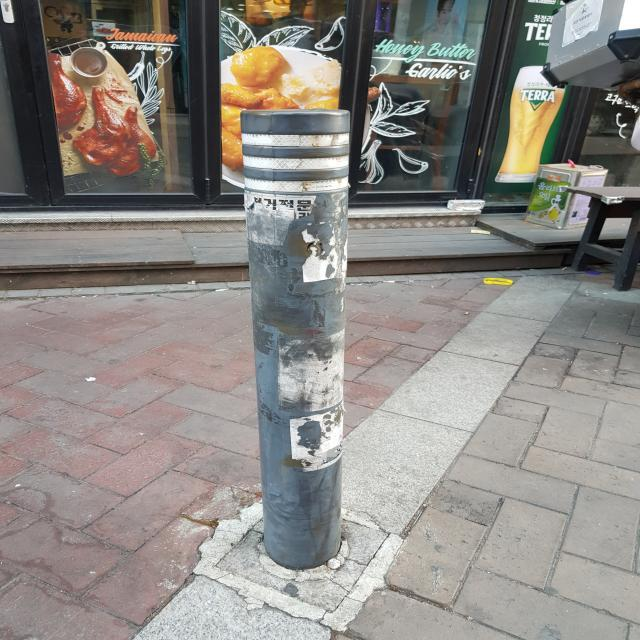pole: (240, 105, 352, 575)
